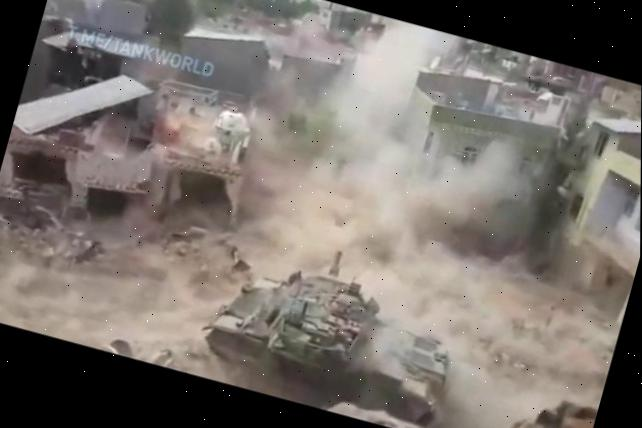tank: (190, 218, 472, 428)
